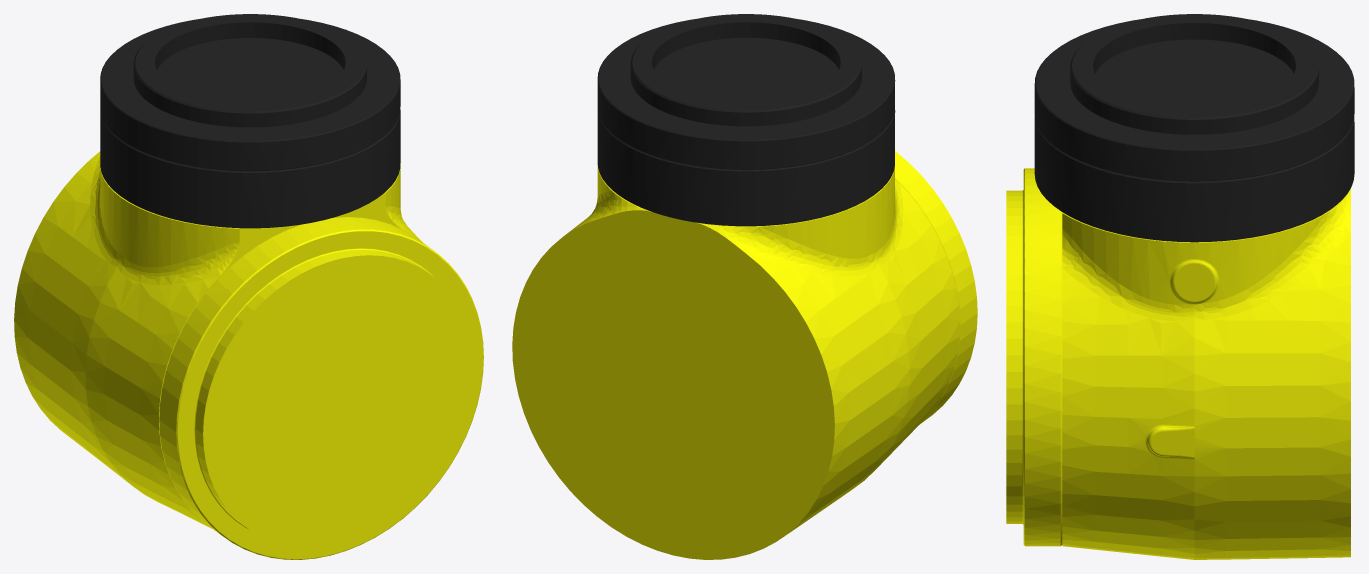
The picture shows the model from 3 angles, left to right: view 1: azimuth 30°, elevation 25°; view 2: azimuth 150°, elevation 25°; view 3: azimuth 270°, elevation 25°; orthographic projection. The views are drawn at different scales.
Parts seen in each view (by area): view 1: node; view 2: node; view 3: node.
Boxes of the visible parts, x1=… form: node: x1=14, y1=14, x2=483, y2=559; node: x1=512, y1=14, x2=977, y2=559; node: x1=1006, y1=14, x2=1354, y2=559.
Bounding box in the file's own units: 118 × 152 × 101.
